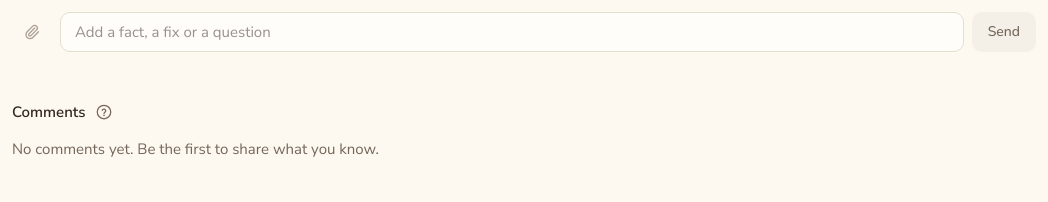
CommunitySection — the input › Enter sends the trimmed text in place and clears the field
Type "  Lead approves access. " into the text box named "Know more about Team Board?" at (512, 32), box [60,12,964,52]
Then press Enter
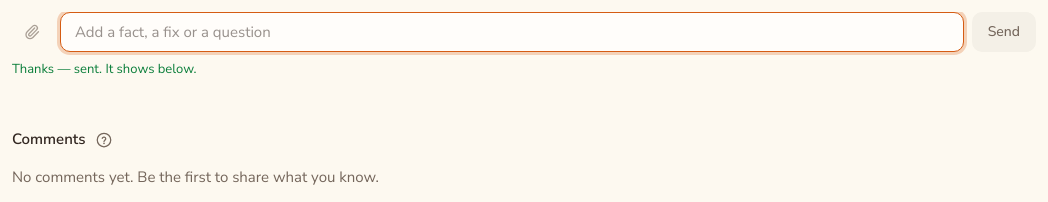
Expected: the message shows "Thanks — sent", [12,60,196,78]
